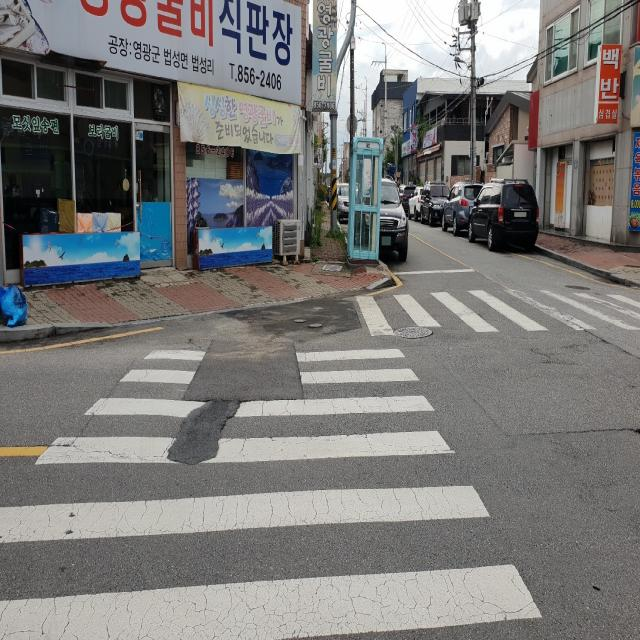횡단보도: (0, 345, 544, 639), (346, 274, 640, 339)
